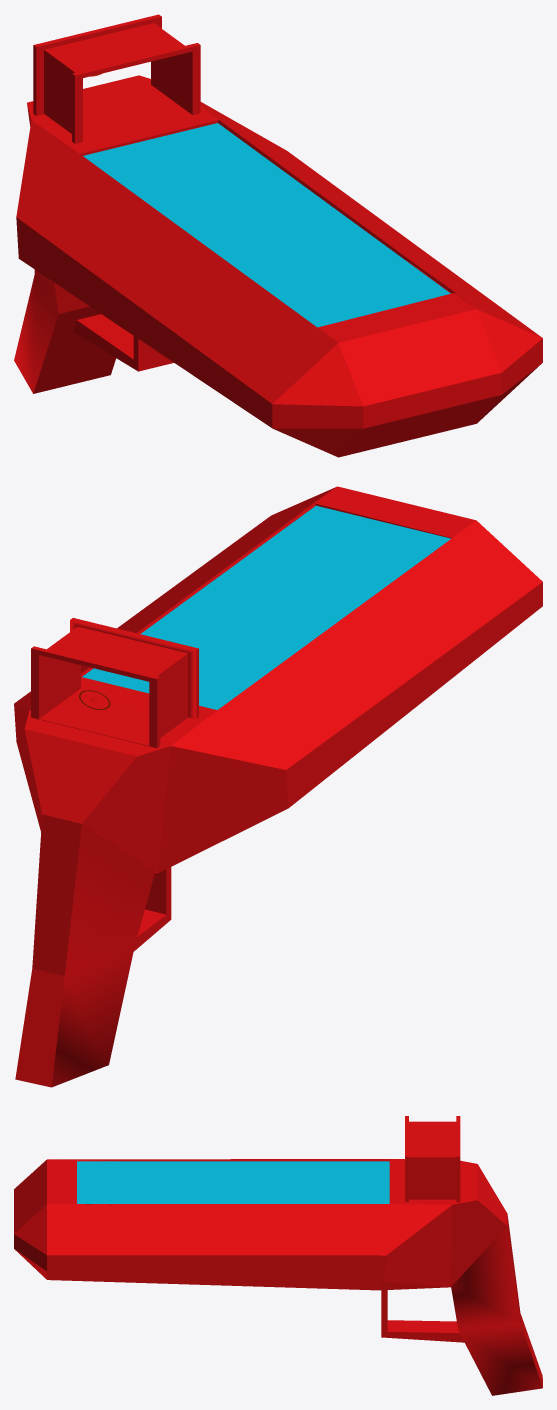
Rendered from Head Swaper.fbx.
3 views of the same model, one above another, from view 1: azimuth 30°, elevation 25°; view 2: azimuth 150°, elevation 25°; view 3: azimuth 270°, elevation 25° (orthographic). The views are drawn at different scales.
Visible parts, largest first — view 1: Cube; view 2: Cube; view 3: Cube.
Boxes of the visible parts, x1=… form: Cube: x1=14, y1=14, x2=542, y2=457; Cube: x1=14, y1=486, x2=542, y2=1087; Cube: x1=14, y1=1116, x2=542, y2=1395.
Bounding box in the file's own units: 0.000151 × 0.000198 × 0.000384.
